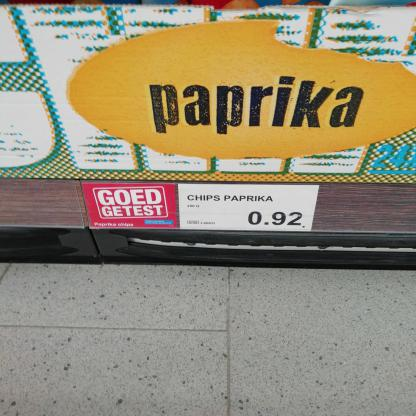prtg: (179, 185, 321, 232)
